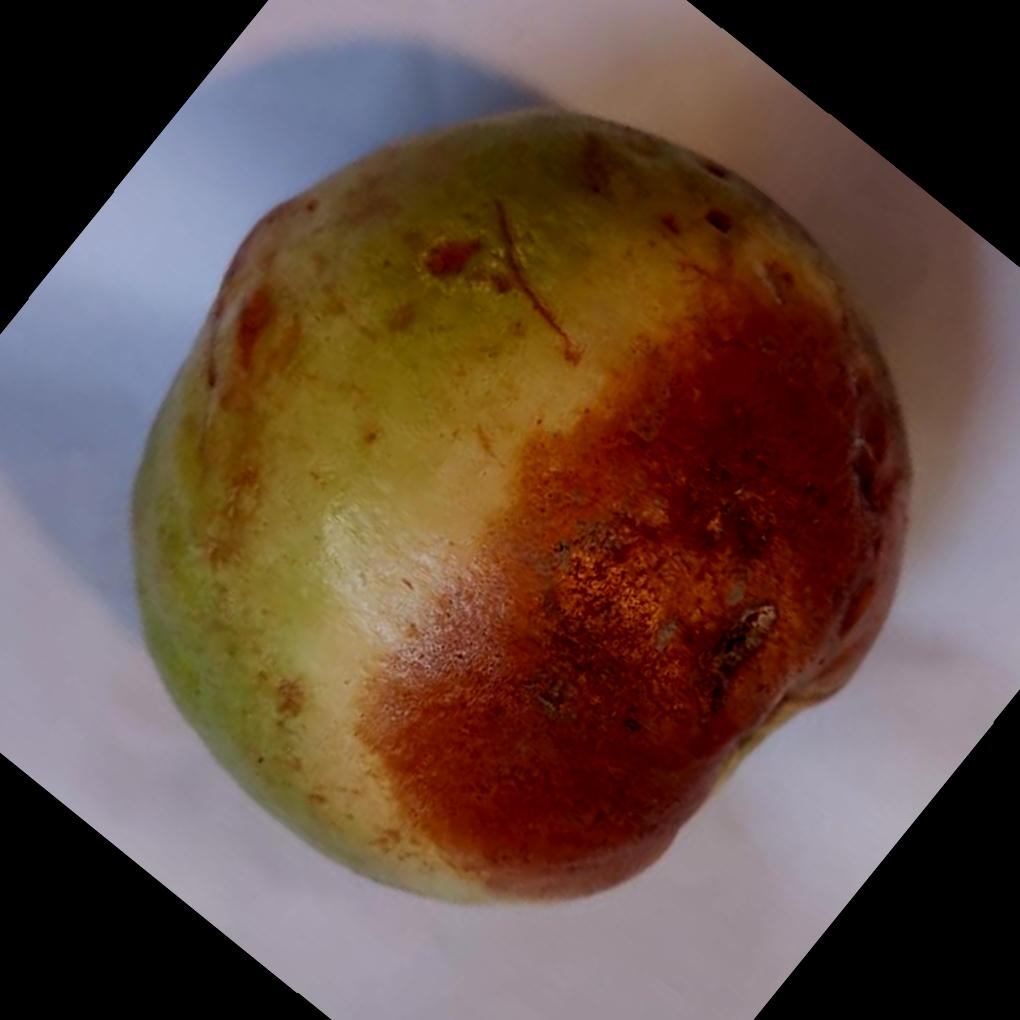FreshOrange: (130, 102, 916, 905)
